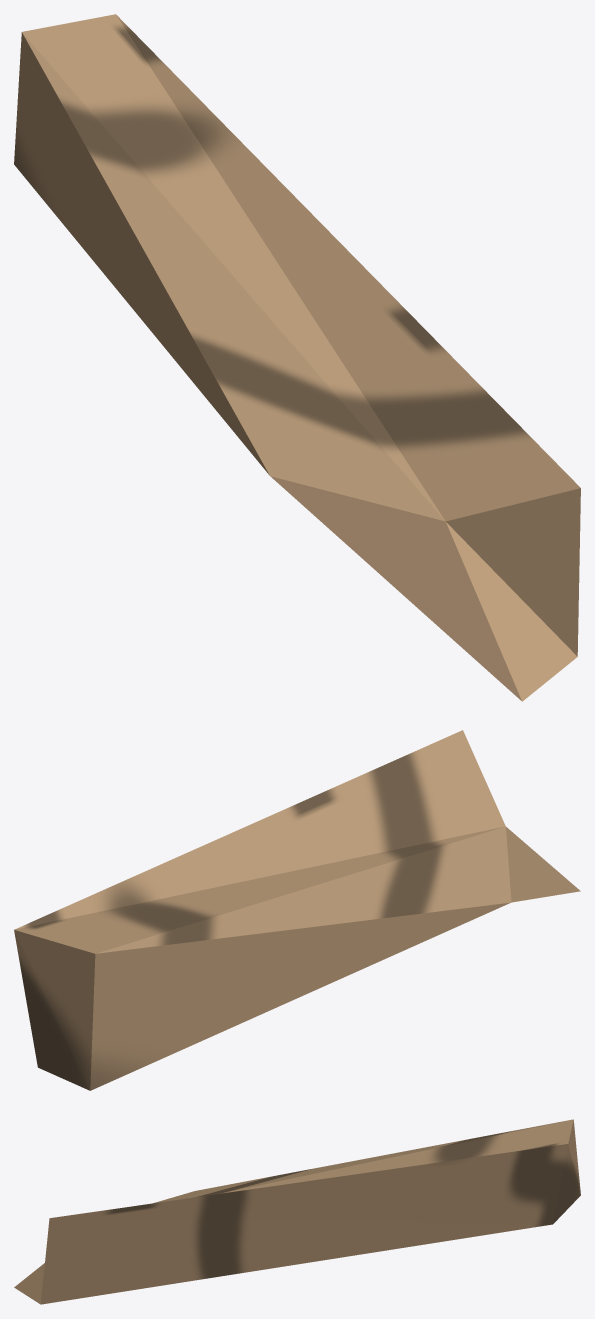
File: RockBreak.obj
The picture shows the model from 3 angles, top to bottom: view 1: azimuth 30°, elevation 25°; view 2: azimuth 150°, elevation 25°; view 3: azimuth 270°, elevation 25°; orthographic projection. The views are drawn at different scales.
Visible parts, largest first — view 1: Cube; view 2: Cube; view 3: Cube.
Boxes of the visible parts, bbox=[...] form: Cube: bbox=[14, 14, 580, 701]; Cube: bbox=[14, 730, 580, 1090]; Cube: bbox=[14, 1119, 580, 1304].
Size of the model in its own units: 0.0235 by 0.0375 by 0.1143.
1 material, 1 textured.
